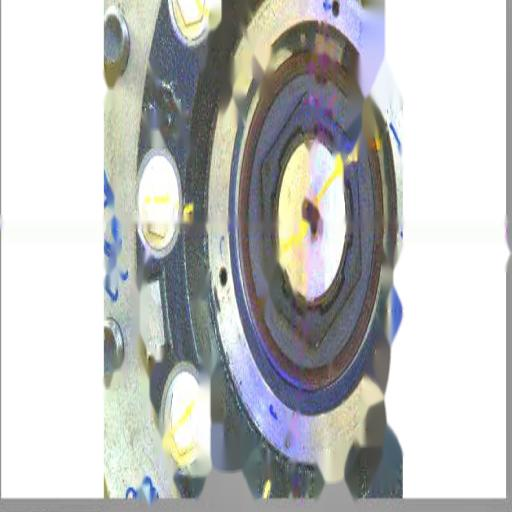center: (303, 202, 324, 240)
notch: (309, 60, 334, 107)
